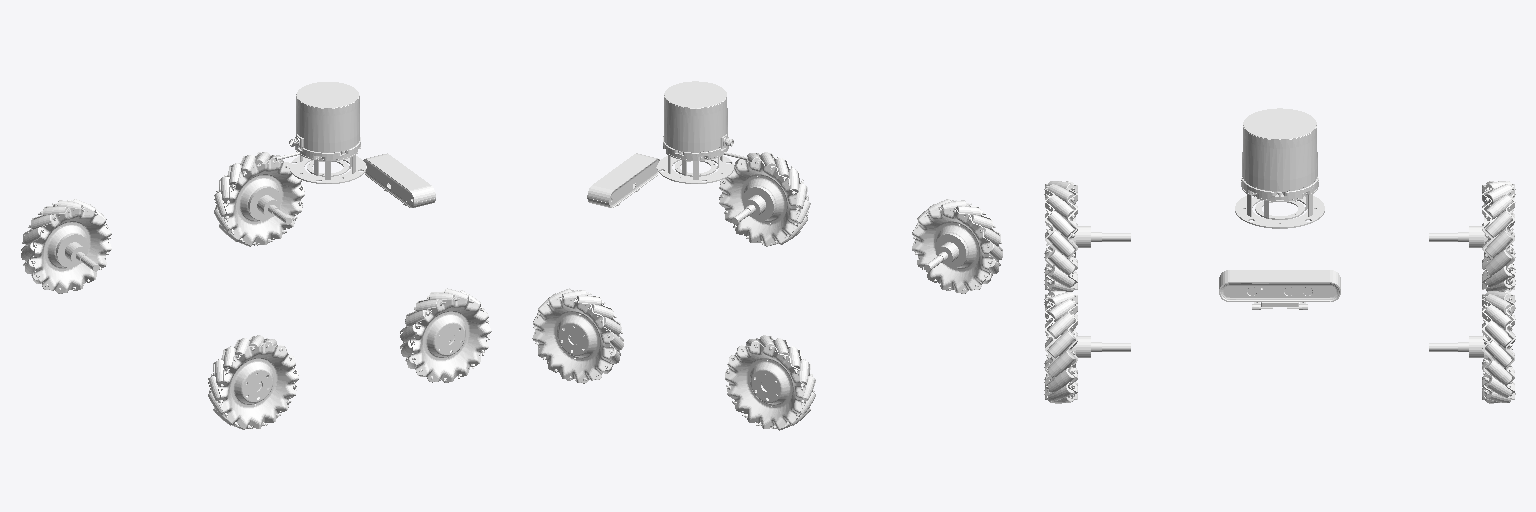
URDF robot description (mec_4wd):
<?xml version="1.0" encoding="utf-8"?>
<!-- This URDF was automatically created by SolidWorks to URDF Exporter! Originally created by Stephen Brawner (brawner@gmail.com) 
     Commit Version: 1.6.0-4-g7f85cfe  Build Version: 1.6.7995.38578
     For more information, please see http://wiki.ros.org/sw_urdf_exporter -->
<robot
  name="mec_4wd">
  <link
    name="base_link">
    <inertial>
      <origin
        xyz="-0.0385182112124468 0.00140733003745149 0.12815733674168"
        rpy="0 0 0" />
      <mass
        value="5.2092212049355" />
      <inertia
        ixx="0.0825693826040625"
        ixy="0.000149244809494199"
        ixz="-0.00116373756279965"
        iyy="0.0805339507733737"
        iyz="0.000116560263864275"
        izz="0.156583625303046" />
    </inertial>
    <visual>
      <origin
        xyz="0 0 0"
        rpy="0 0 0" />
      <geometry>
        <mesh
          filename="package://wheeltec_robot_urdf/meshes/flagship_mec_dl_robot_meshes/base_link.STL" />
      </geometry>
      <material
        name="">
        <color
          rgba="0.741176470588235 0.901960784313726 0.956862745098039 1" />
      </material>
    </visual>
    <collision>
      <origin
        xyz="0 0 0"
        rpy="0 0 0" />
      <geometry>
        <mesh
          filename="package://wheeltec_robot_urdf/meshes/flagship_mec_dl_robot_meshes/base_link.STL" />
      </geometry>
    </collision>
  </link>
  <link
    name="controller_link">
    <inertial>
      <origin
        xyz="0.0349782325134063 0.0354906727557576 -0.0933944882253789"
        rpy="0 0 0" />
      <mass
        value="13.7497679689941" />
      <inertia
        ixx="0.372672259515749"
        ixy="-0.00152726371611815"
        ixz="0.0238104845781645"
        iyy="0.463511167576731"
        iyz="-0.000604933691990789"
        izz="0.68901162170127" />
    </inertial>
    <visual>
      <origin
        xyz="0 0 0"
        rpy="0 0 0" />
      <geometry>
        <mesh
          filename="package://wheeltec_robot_urdf/meshes/flagship_mec_dl_robot_meshes/controller_link.STL" />
      </geometry>
      <material
        name="">
        <color
          rgba="0.741176470588235 0.901960784313726 0.956862745098039 1" />
      </material>
    </visual>
    <collision>
      <origin
        xyz="0 0 0"
        rpy="0 0 0" />
      <geometry>
        <mesh
          filename="package://wheeltec_robot_urdf/meshes/flagship_mec_dl_robot_meshes/controller_link.STL" />
      </geometry>
    </collision>
  </link>
  <joint
    name="controller_joint"
    type="fixed">
    <origin
      xyz="-0.03596 -0.036589 0.1798"
      rpy="0 0 0" />
    <parent
      link="base_link" />
    <child
      link="controller_link" />
    <axis
      xyz="0 0 0" />
  </joint>
  <link
    name="camera_link">
    <inertial>
      <origin
        xyz="-4.27512554246334E-08 -3.48614406050848E-07 1.07624260753392E-07"
        rpy="0 0 0" />
      <mass
        value="0.0559842512077705" />
      <inertia
        ixx="0.000130810959338941"
        ixy="1.20255128268298E-07"
        ixz="1.62335437078697E-06"
        iyy="1.91148634967614E-05"
        iyz="-2.80016756385598E-08"
        izz="0.000131387469522753" />
    </inertial>
    <visual>
      <origin
        xyz="0 0 0"
        rpy="0 0 0" />
      <geometry>
        <mesh
          filename="package://wheeltec_robot_urdf/meshes/flagship_mec_dl_robot_meshes/camera_link.STL" />
      </geometry>
      <material
        name="">
        <color
          rgba="1 1 1 1" />
      </material>
    </visual>
    <collision>
      <origin
        xyz="0 0 0"
        rpy="0 0 0" />
      <geometry>
        <mesh
          filename="package://wheeltec_robot_urdf/meshes/flagship_mec_dl_robot_meshes/camera_link.STL" />
      </geometry>
    </collision>
  </link>
  <joint
    name="camera_joint"
    type="fixed">
    <origin
      xyz="0.26489 -0.001222 0.1659"
      rpy="0 0 0" />
    <parent
      link="base_link" />
    <child
      link="camera_link" />
    <axis
      xyz="0 0 0" />
  </joint>
  <link
    name="laser_link">
    <inertial>
      <origin
        xyz="-0.000792227311922744 1.33119304358804E-06 -0.0296756284342814"
        rpy="0 0 0" />
      <mass
        value="0.118401562999932" />
      <inertia
        ixx="0.000132583547441078"
        ixy="-2.17388474590301E-09"
        ixz="-1.07082621762921E-06"
        iyy="0.000135451246710614"
        iyz="-7.24378125813245E-10"
        izz="0.000208462359455448" />
    </inertial>
    <visual>
      <origin
        xyz="0 0 0"
        rpy="0 0 0" />
      <geometry>
        <mesh
          filename="package://wheeltec_robot_urdf/meshes/flagship_mec_dl_robot_meshes/laser_link.STL" />
      </geometry>
      <material
        name="">
        <color
          rgba="1 1 1 1" />
      </material>
    </visual>
    <collision>
      <origin
        xyz="0 0 0"
        rpy="0 0 0" />
      <geometry>
        <mesh
          filename="package://wheeltec_robot_urdf/meshes/flagship_mec_dl_robot_meshes/laser_link.STL" />
      </geometry>
    </collision>
  </link>
  <joint
    name="laser_joint"
    type="fixed">
    <origin
      xyz="0.132555813230632 -0.00130000000000264 0.2896"
      rpy="0 0 0" />
    <parent
      link="base_link" />
    <child
      link="laser_link" />
    <axis
      xyz="0 0 0" />
  </joint>
  <link
    name="lf_wheel_link">
    <inertial>
      <origin
        xyz="-1.23007128643993E-06 -0.00443251392438576 -2.52509476023066E-07"
        rpy="0 0 0" />
      <mass
        value="0.252933438240059" />
      <inertia
        ixx="0.000462600798676089"
        ixy="-2.49294463389071E-08"
        ixz="-5.87830271464204E-08"
        iyy="0.000872204139758246"
        iyz="2.36302161064355E-07"
        izz="0.000463150385470824" />
    </inertial>
    <visual>
      <origin
        xyz="0 0 0"
        rpy="0 0 0" />
      <geometry>
        <mesh
          filename="package://wheeltec_robot_urdf/meshes/flagship_mec_dl_robot_meshes/lf_wheel_link.STL" />
      </geometry>
      <material
        name="">
        <color
          rgba="1 1 1 1" />
      </material>
    </visual>
    <collision>
      <origin
        xyz="0 0 0"
        rpy="0 0 0" />
      <geometry>
        <mesh
          filename="package://wheeltec_robot_urdf/meshes/flagship_mec_dl_robot_meshes/lf_wheel_link.STL" />
      </geometry>
    </collision>
  </link>
  <joint
    name="lf_wheel_joint"
    type="continuous">
    <origin
      xyz="0.177018162984322 0.293928000000001 0.037983"
      rpy="0 0 0" />
    <parent
      link="base_link" />
    <child
      link="lf_wheel_link" />
    <axis
      xyz="0 -1 0" />
  </joint>
  <link
    name="lb_wheel_link">
    <inertial>
      <origin
        xyz="-1.79549139484037E-06 -0.00460588894371011 -1.42325015509148E-07"
        rpy="0 0 0" />
      <mass
        value="0.247565401061819" />
      <inertia
        ixx="0.000450210228639961"
        ixy="2.5137406934399E-08"
        ixz="-5.76099794902906E-08"
        iyy="0.00084792182997602"
        iyz="-2.36040828261662E-07"
        izz="0.000450756322806282" />
    </inertial>
    <visual>
      <origin
        xyz="0 0 0"
        rpy="0 0 0" />
      <geometry>
        <mesh
          filename="package://wheeltec_robot_urdf/meshes/flagship_mec_dl_robot_meshes/lb_wheel_link.STL" />
      </geometry>
      <material
        name="">
        <color
          rgba="1 1 1 1" />
      </material>
    </visual>
    <collision>
      <origin
        xyz="0 0 0"
        rpy="0 0 0" />
      <geometry>
        <mesh
          filename="package://wheeltec_robot_urdf/meshes/flagship_mec_dl_robot_meshes/lb_wheel_link.STL" />
      </geometry>
    </collision>
  </link>
  <joint
    name="lb_wheel_joint"
    type="continuous">
    <origin
      xyz="-0.17498 0.29447 0.037983"
      rpy="0 0 0" />
    <parent
      link="base_link" />
    <child
      link="lb_wheel_link" />
    <axis
      xyz="0 1 0" />
  </joint>
  <link
    name="rb_wheel_link">
    <inertial>
      <origin
        xyz="-1.18600560880533E-06 0.00450894783318911 -2.45703136267372E-07"
        rpy="0 0 0" />
      <mass
        value="0.252933431609788" />
      <inertia
        ixx="0.000462600795641804"
        ixy="-2.49292376227619E-08"
        ixz="-5.87767098320041E-08"
        iyy="0.000872204139451522"
        iyz="2.36301279359248E-07"
        izz="0.000463150387394281" />
    </inertial>
    <visual>
      <origin
        xyz="0 0 0"
        rpy="0 0 0" />
      <geometry>
        <mesh
          filename="package://wheeltec_robot_urdf/meshes/flagship_mec_dl_robot_meshes/rb_wheel_link.STL" />
      </geometry>
      <material
        name="">
        <color
          rgba="1 1 1 1" />
      </material>
    </visual>
    <collision>
      <origin
        xyz="0 0 0"
        rpy="0 0 0" />
      <geometry>
        <mesh
          filename="package://wheeltec_robot_urdf/meshes/flagship_mec_dl_robot_meshes/rb_wheel_link.STL" />
      </geometry>
    </collision>
  </link>
  <joint
    name="rb_wheel_joint"
    type="continuous">
    <origin
      xyz="-0.17498 -0.29707 0.037983"
      rpy="0 0 0" />
    <parent
      link="base_link" />
    <child
      link="rb_wheel_link" />
    <axis
      xyz="0 1 0" />
  </joint>
  <link
    name="rf_wheel_link">
    <inertial>
      <origin
        xyz="1.85537837943395E-06 0.00460582493330264 -1.39995347467337E-07"
        rpy="0 0 0" />
      <mass
        value="0.247566594964803" />
      <inertia
        ixx="0.000450209955287955"
        ixy="2.52315145055208E-08"
        ixz="5.76029225589523E-08"
        iyy="0.000847921905106102"
        iyz="2.36042356751197E-07"
        izz="0.000450756678980562" />
    </inertial>
    <visual>
      <origin
        xyz="0 0 0"
        rpy="0 0 0" />
      <geometry>
        <mesh
          filename="package://wheeltec_robot_urdf/meshes/flagship_mec_dl_robot_meshes/rf_wheel_link.STL" />
      </geometry>
      <material
        name="">
        <color
          rgba="1 1 1 1" />
      </material>
    </visual>
    <collision>
      <origin
        xyz="0 0 0"
        rpy="0 0 0" />
      <geometry>
        <mesh
          filename="package://wheeltec_robot_urdf/meshes/flagship_mec_dl_robot_meshes/rf_wheel_link.STL" />
      </geometry>
    </collision>
  </link>
  <joint
    name="rf_wheel_joint"
    type="continuous">
    <origin
      xyz="0.17701 -0.29707 0.037983"
      rpy="0 0 0" />
    <parent
      link="base_link" />
    <child
      link="rf_wheel_link" />
    <axis
      xyz="0 -1 0" />
  </joint>
</robot>

--- What the picture shows (computed from the rendered views, not written in the file) ---
The picture shows the robot from 3 angles, left to right: view 1: azimuth 30°, elevation 25°; view 2: azimuth 150°, elevation 25°; view 3: azimuth 270°, elevation 25°; orthographic projection.
Model mec_4wd with 8 links and 7 joints (4 continuous, 3 fixed), rooted at base_link, posed every joint at zero.
Visible links, largest first — view 1: rf_wheel_link, rb_wheel_link, lb_wheel_link, lf_wheel_link, laser_link, camera_link; view 2: lf_wheel_link, rb_wheel_link, lb_wheel_link, rf_wheel_link, laser_link, camera_link; view 3: laser_link, rf_wheel_link, lf_wheel_link, camera_link, lb_wheel_link, rb_wheel_link.
Boxes of the visible links, left/top/right/bottom form: rf_wheel_link: left=400, top=288, right=491, bottom=382; rb_wheel_link: left=208, top=335, right=298, bottom=429; lb_wheel_link: left=21, top=199, right=111, bottom=293; lf_wheel_link: left=214, top=152, right=304, bottom=246; laser_link: left=275, top=82, right=365, bottom=183; camera_link: left=363, top=153, right=435, bottom=207; lf_wheel_link: left=532, top=288, right=623, bottom=383; rb_wheel_link: left=912, top=199, right=1002, bottom=293; lb_wheel_link: left=725, top=335, right=815, bottom=430; rf_wheel_link: left=719, top=152, right=810, bottom=246; laser_link: left=657, top=81, right=747, bottom=183; camera_link: left=587, top=153, right=659, bottom=207; laser_link: left=1235, top=108, right=1324, bottom=228; rf_wheel_link: left=1044, top=291, right=1130, bottom=403; lf_wheel_link: left=1429, top=291, right=1515, bottom=403; camera_link: left=1219, top=270, right=1340, bottom=309; lb_wheel_link: left=1429, top=181, right=1515, bottom=291; rb_wheel_link: left=1044, top=181, right=1130, bottom=291.
Size in the robot's own frame: 0.534 by 0.6365 by 0.3885 metres.
Meshes: 8 distinct files referenced, 6 mesh visuals loaded (6 binary STL); not drawn: 2 (reference not matched to a file when rendering).
